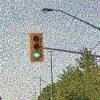traffic lights: (29, 31, 43, 61)
